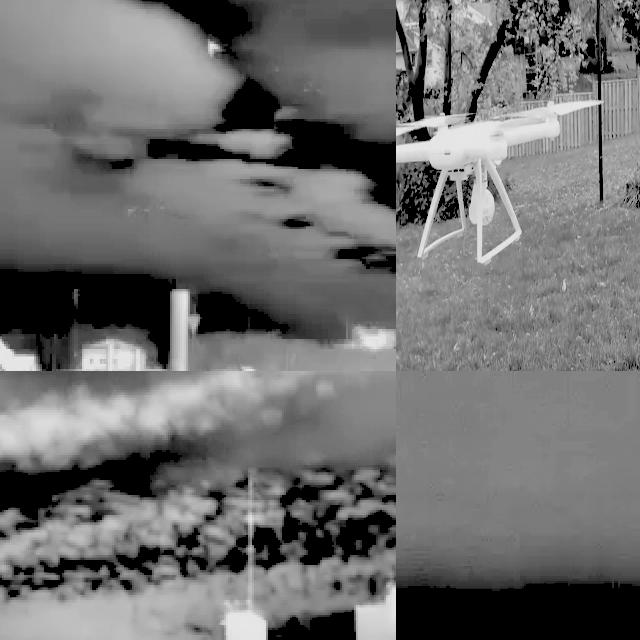0: (200, 32, 228, 66)
drone: (396, 114, 589, 260)
